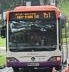bus: (40, 9, 52, 19)
